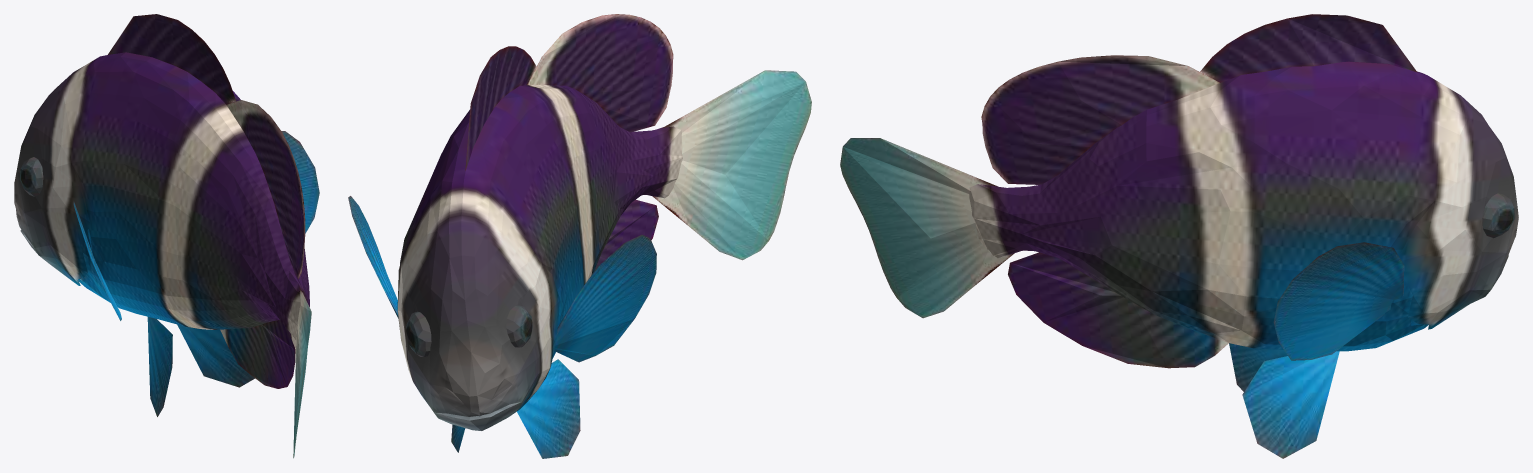
Rendered from google poly xanh.obj.
3 views of the same model, side by side, from view 1: azimuth 30°, elevation 25°; view 2: azimuth 150°, elevation 25°; view 3: azimuth 270°, elevation 25° (orthographic). The views are drawn at different scales.
Parts seen in each view (by area): view 1: object9, object7, object6, object5, Object001, object4; view 2: object9, object4, object6, Object001, object5; view 3: object9, object5, object7, object6, Object001.
Boxes of the visible parts, <box> form: object9: <box>14,14,311,458</box>; object7: <box>177,324,254,387</box>; object6: <box>147,317,172,416</box>; object5: <box>281,131,319,233</box>; Object001: <box>20,157,43,196</box>; object4: <box>73,201,121,320</box>; object9: <box>397,14,811,430</box>; object4: <box>555,234,656,362</box>; object6: <box>517,359,580,458</box>; Object001: <box>406,305,532,356</box>; object5: <box>348,196,398,318</box>; object9: <box>840,14,1518,368</box>; object5: <box>1273,242,1404,360</box>; object7: <box>1242,351,1339,458</box>; object6: <box>1229,343,1287,391</box>; Object001: <box>1482,193,1514,238</box>.
Bounding box in the file's own units: 16.01 × 22.64 × 33.31.
Materials: 1 (1 with a texture image).
